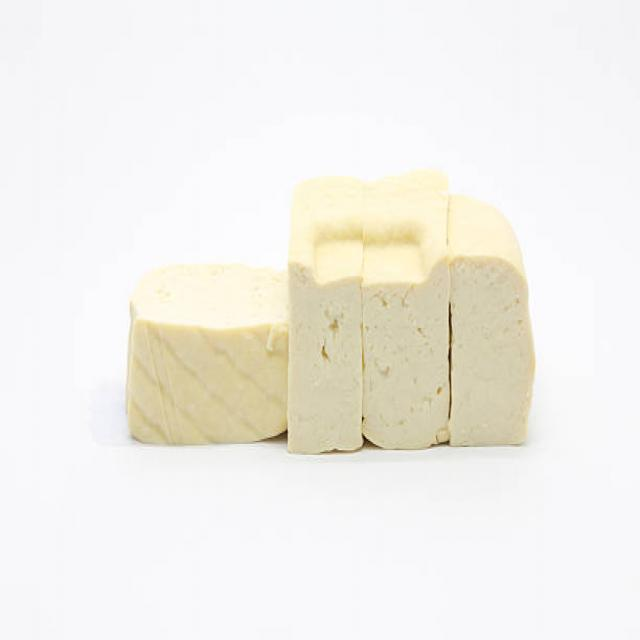Tofu Block: (125, 262, 292, 446), (450, 201, 540, 451), (362, 236, 448, 453), (289, 231, 364, 460)
